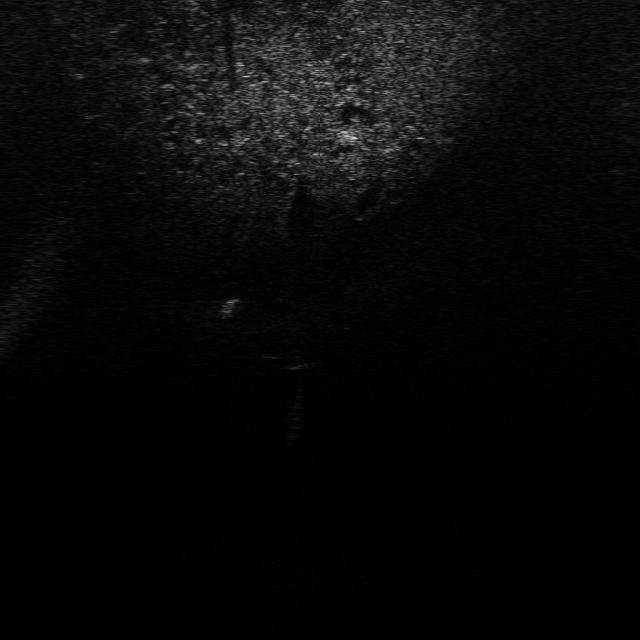cube: (280, 342, 326, 373)
cylinder: (217, 293, 239, 323)
